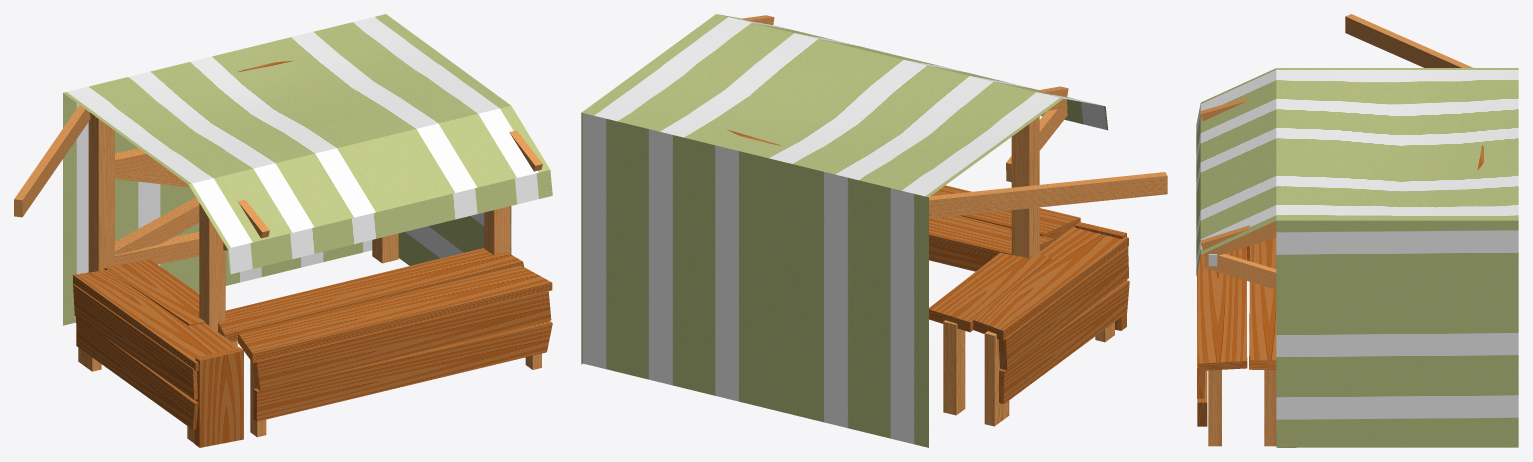
The model's file is caseta 1.fbx.
3 views of the same model, side by side, from view 1: azimuth 30°, elevation 25°; view 2: azimuth 150°, elevation 25°; view 3: azimuth 270°, elevation 25° (orthographic). The views are drawn at different scales.
Parts seen in each view (by area): view 1: Plane001, mesa001, mesa002, mesa003, mesa, mesa009, mesa012, columna 2, mesa010, mesa011, mesa008, columna (+7 smaller); view 2: Plane001, mesa009, Box006, mesa010, mesa011, mesa008, columna, mesa, pata de la mesa010, mesa001, pata de la mesa011, mesa003 (+1 smaller); view 3: Plane001, mesa001, mesa, Box006, Box008, Box007, pata de la mesa001, pata de la mesa, mesa002, mesa003, Box009.
Boxes of the visible parts, x1,y1,x2,y2 form: Plane001: (63,14,552,325); mesa001: (238,265,552,362); mesa002: (252,290,551,391); mesa003: (253,321,552,421); mesa: (218,248,523,342); mesa009: (73,269,238,370); mesa012: (194,347,243,447); columna 2: (88,114,114,272); mesa010: (73,284,197,399); mesa011: (76,316,198,429); mesa008: (104,259,205,325); columna: (199,203,225,331); Plane001: (581,14,1107,447); mesa009: (972,227,1128,340); Box006: (929,172,1167,218); mesa010: (998,246,1128,370); mesa011: (999,280,1129,403); mesa008: (929,252,1050,332); columna: (1011,116,1039,258); mesa: (929,215,1053,259); pata de la mesa010: (943,320,965,415); mesa001: (931,185,1080,239); pata de la mesa011: (984,331,1009,426); mesa003: (929,244,990,271); Plane001: (1196,68,1518,447); mesa001: (1198,247,1247,370); mesa: (1249,238,1276,370); Box006: (1345,14,1472,67); Box008: (1204,254,1276,289); Box007: (1200,221,1276,259); pata de la mesa001: (1208,370,1221,446); pata de la mesa: (1264,370,1276,446); mesa002: (1197,267,1204,398); mesa003: (1197,370,1207,426); Box009: (1200,98,1246,121).
Bounding box in the file's own units: 190 × 93.02 × 119.
